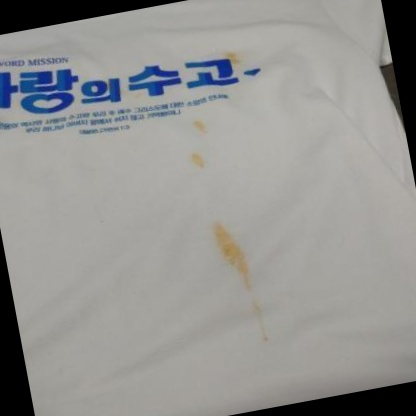kimchi: (210, 215, 258, 285), (254, 300, 272, 351), (193, 116, 210, 135), (226, 49, 243, 65), (246, 273, 258, 292), (187, 154, 201, 169), (132, 87, 142, 100), (119, 79, 129, 88), (122, 92, 127, 99)
